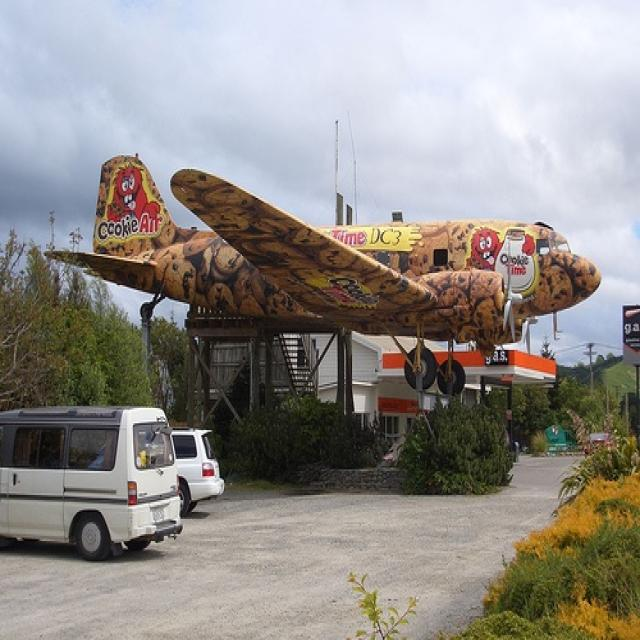aeroplane: (42, 152, 602, 394)
car: (0, 408, 182, 563), (168, 430, 224, 521)
